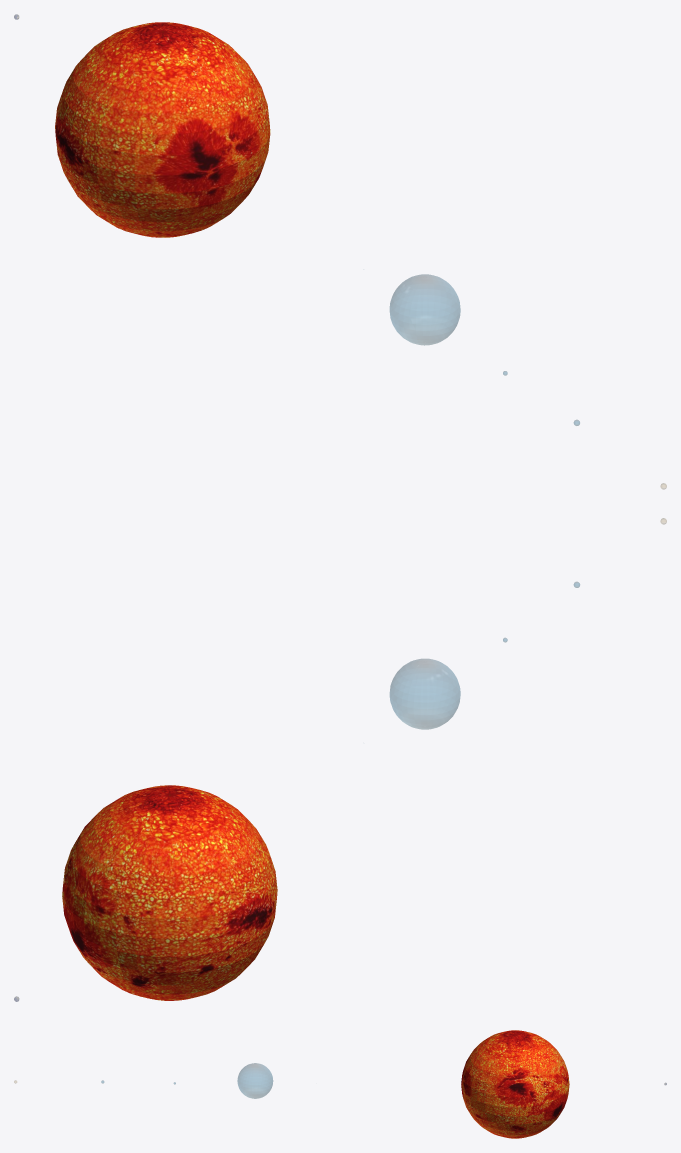
The picture shows the model from 3 angles, top to bottom: view 1: azimuth 30°, elevation 25°; view 2: azimuth 150°, elevation 25°; view 3: azimuth 270°, elevation 25°; orthographic projection. The views are drawn at different scales.
Parts seen in each view (by area): view 1: Sphere.006, Sphere.002; view 2: Sphere.006, Sphere.002; view 3: Sphere.006, Sphere.002.
Boxes of the visible parts, bbox=[...] form: Sphere.006: bbox=[55, 22, 270, 237]; Sphere.002: bbox=[390, 274, 460, 345]; Sphere.006: bbox=[62, 785, 277, 1000]; Sphere.002: bbox=[390, 659, 460, 729]; Sphere.006: bbox=[461, 1030, 569, 1138]; Sphere.002: bbox=[237, 1063, 272, 1098].
Bounding box in the file's own units: 12.59 × 12.61 × 75.8.
Materials: 7 (7 with a texture image).
